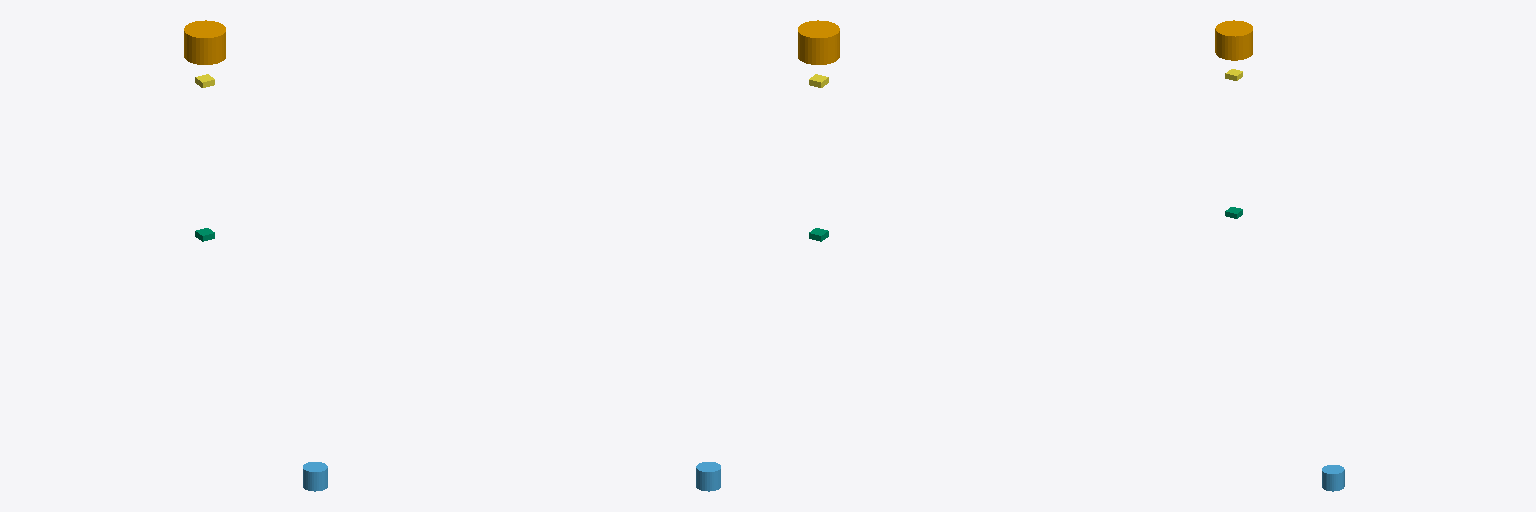
URDF robot description (autolabor_description):
<robot name="autolabor_description">

  <link name="velodyne">
    <visual>
      <origin xyz="0.0 0.0 0" />
      <geometry>
        <cylinder length="0.07" radius="0.05" />
      </geometry>
      <material name="gray" />
    </visual>
  </link>

  <link name="ydlidar_link">
    <visual>
      <origin xyz="0.3 0.0 0.3" />
      <geometry>
        <cylinder length="0.05" radius="0.03" />
      </geometry>
      <material name="black" />
    </visual>
  </link>

  <link name="imu">
    <visual>
      <origin xyz="0.0 0.0 1.0" />
      <geometry>
        <box size="0.035 0.035 0.015" />
      </geometry>
      <material name="black" />
    </visual>
  </link>

  <link name="imu_link">
    <visual>
      <origin xyz="0.0 0.0 1.4" />
      <geometry>
        <box size="0.035 0.035 0.015" />
      </geometry>
      <material name="black" />
    </visual>
  </link>


  <link name="base_link">
    <visual>
      <origin
      xyz="-0.363 0.3085 0.2883"
      rpy="0. 1.57 -1.57" />
      <geometry>
        <mesh
          filename="package://autolabor_description/meshes/autolabor_pro1.stl" scale="0.001 0.001 0.001"/>
      </geometry>
      <material
        name="">
        <color
          rgba="0.96 0.81 0.36 1" />
      </material>
    </visual>
  </link>

  <joint name="imu_link_joint" type="fixed">
    <parent link="base_link" />
    <child link="imu_link" />
    <origin xyz="0 0 0" rpy="0 0 0" />
  </joint>

  <joint name="imu2_link_joint" type="fixed">
    <parent link="base_link" />
    <child link="imu" />
    <origin xyz="0 0 0" rpy="0 0 0" />
  </joint>

  <joint name="velodyne_link_joint" type="fixed">
    <parent link="base_link" />
    <child link="velodyne" />
    <origin xyz="0 0 1.5" rpy="0 0 0" />
  </joint>

  <joint name="ydlidar_link__joint" type="fixed">
    <parent link="base_link" />
    <child link="ydlidar_link" />
    <origin xyz="0 0 0" rpy="0 0 0" />
  </joint>





</robot>

--- Facts derived from the render (not from the file) ---
Views: 3 orthographic renders of the robot side by side, from view 1: azimuth 30°, elevation 25°; view 2: azimuth 150°, elevation 25°; view 3: azimuth 330°, elevation 25°.
Robot: autolabor_description — 5 links, 4 joints (4 fixed); root link base_link; default pose: all joints at 0.
Visible links, largest first — view 1: velodyne, ydlidar_link; view 2: velodyne, ydlidar_link; view 3: velodyne, ydlidar_link.
Link boxes in pixels (x1=…): velodyne: x1=184, y1=20, x2=225, y2=64; ydlidar_link: x1=303, y1=462, x2=327, y2=491; velodyne: x1=798, y1=20, x2=839, y2=64; ydlidar_link: x1=696, y1=462, x2=720, y2=491; velodyne: x1=1215, y1=20, x2=1252, y2=60; ydlidar_link: x1=1322, y1=465, x2=1344, y2=491.
Size in the robot's own frame: 0.38 by 0.1 by 1.26 metres.
0 mesh visuals loaded from 1 distinct referenced files (none loaded); not drawn: 1 (reference not matched to a file when rendering).
